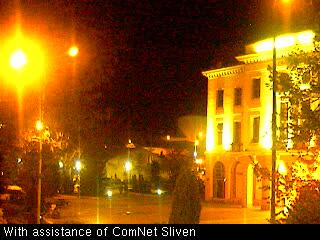person: (124, 185, 128, 195), (119, 185, 123, 195)
